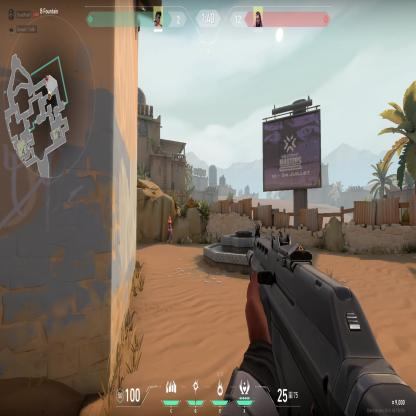enemy: (166, 214, 173, 244)
